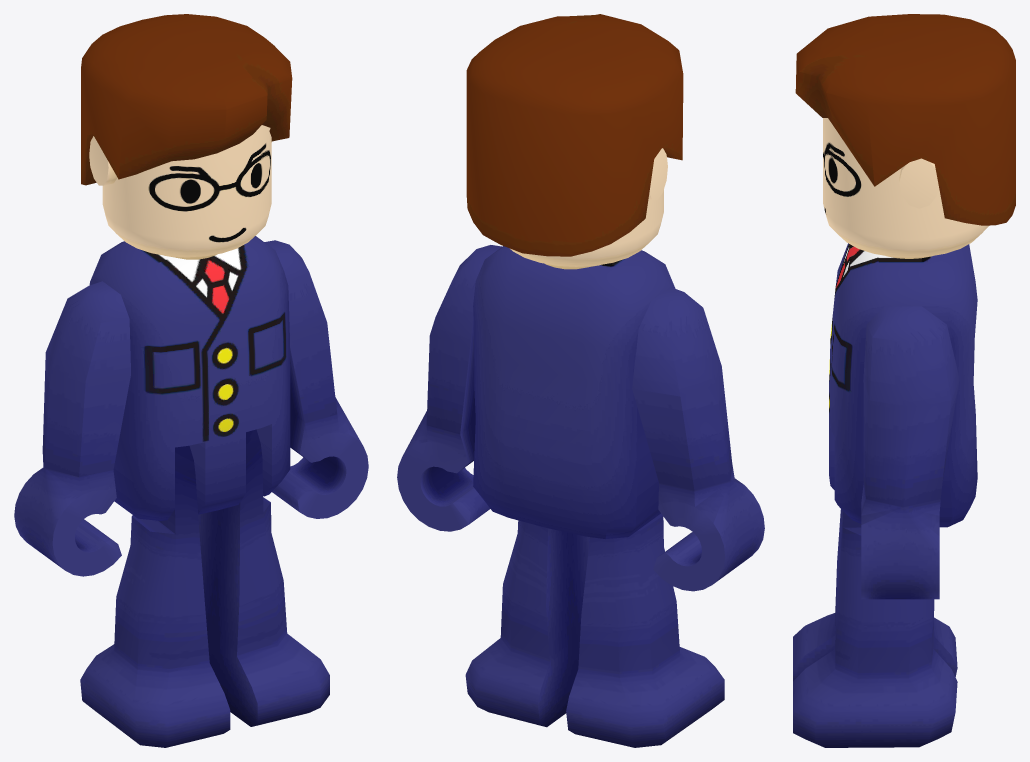
Rendered from plakids_c1.glb.
The picture shows the model from 3 angles, left to right: view 1: azimuth 30°, elevation 25°; view 2: azimuth 150°, elevation 25°; view 3: azimuth 270°, elevation 25°; orthographic projection. The views are drawn at different scales.
Visible parts, largest first — view 1: plakids_head, plakids_dou, plakids_R_leg, plakids_R_arm, plakids_L_leg, plakids_L_arm; view 2: plakids_head, plakids_dou, plakids_R_arm, plakids_R_leg, plakids_L_leg, plakids_L_arm; view 3: plakids_head, plakids_L_arm, plakids_L_leg, plakids_dou, plakids_R_leg.
Part boxes in pixels (x1=…): plakids_head: x1=81, y1=14, x2=292, y2=259; plakids_dou: x1=89, y1=236, x2=290, y2=520; plakids_R_leg: x1=80, y1=445, x2=230, y2=747; plakids_R_arm: x1=14, y1=281, x2=130, y2=576; plakids_L_leg: x1=198, y1=429, x2=329, y2=726; plakids_L_arm: x1=264, y1=240, x2=368, y2=518; plakids_head: x1=466, y1=14, x2=683, y2=269; plakids_dou: x1=473, y1=246, x2=675, y2=538; plakids_R_arm: x1=632, y1=287, x2=764, y2=591; plakids_R_leg: x1=566, y1=513, x2=724, y2=747; plakids_L_leg: x1=465, y1=520, x2=589, y2=727; plakids_L_arm: x1=397, y1=245, x2=501, y2=531; plakids_head: x1=795, y1=14, x2=1015, y2=258; plakids_L_arm: x1=861, y1=306, x2=959, y2=599; plakids_L_leg: x1=793, y1=511, x2=957, y2=747; plakids_dou: x1=829, y1=243, x2=977, y2=527; plakids_R_leg: x1=793, y1=509, x2=957, y2=681.
Bounding box in the file's own units: 1.86 × 3.66 × 1.11.
Materials: 2 (2 with a texture image).
